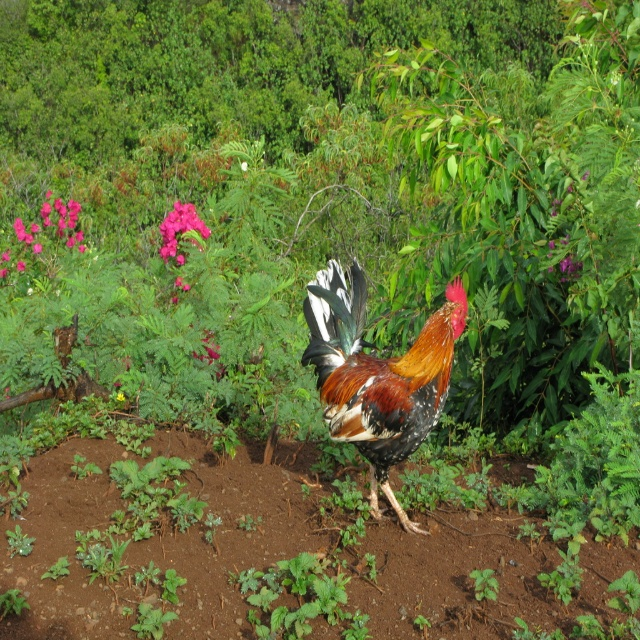Chicken: (302, 254, 465, 532)
